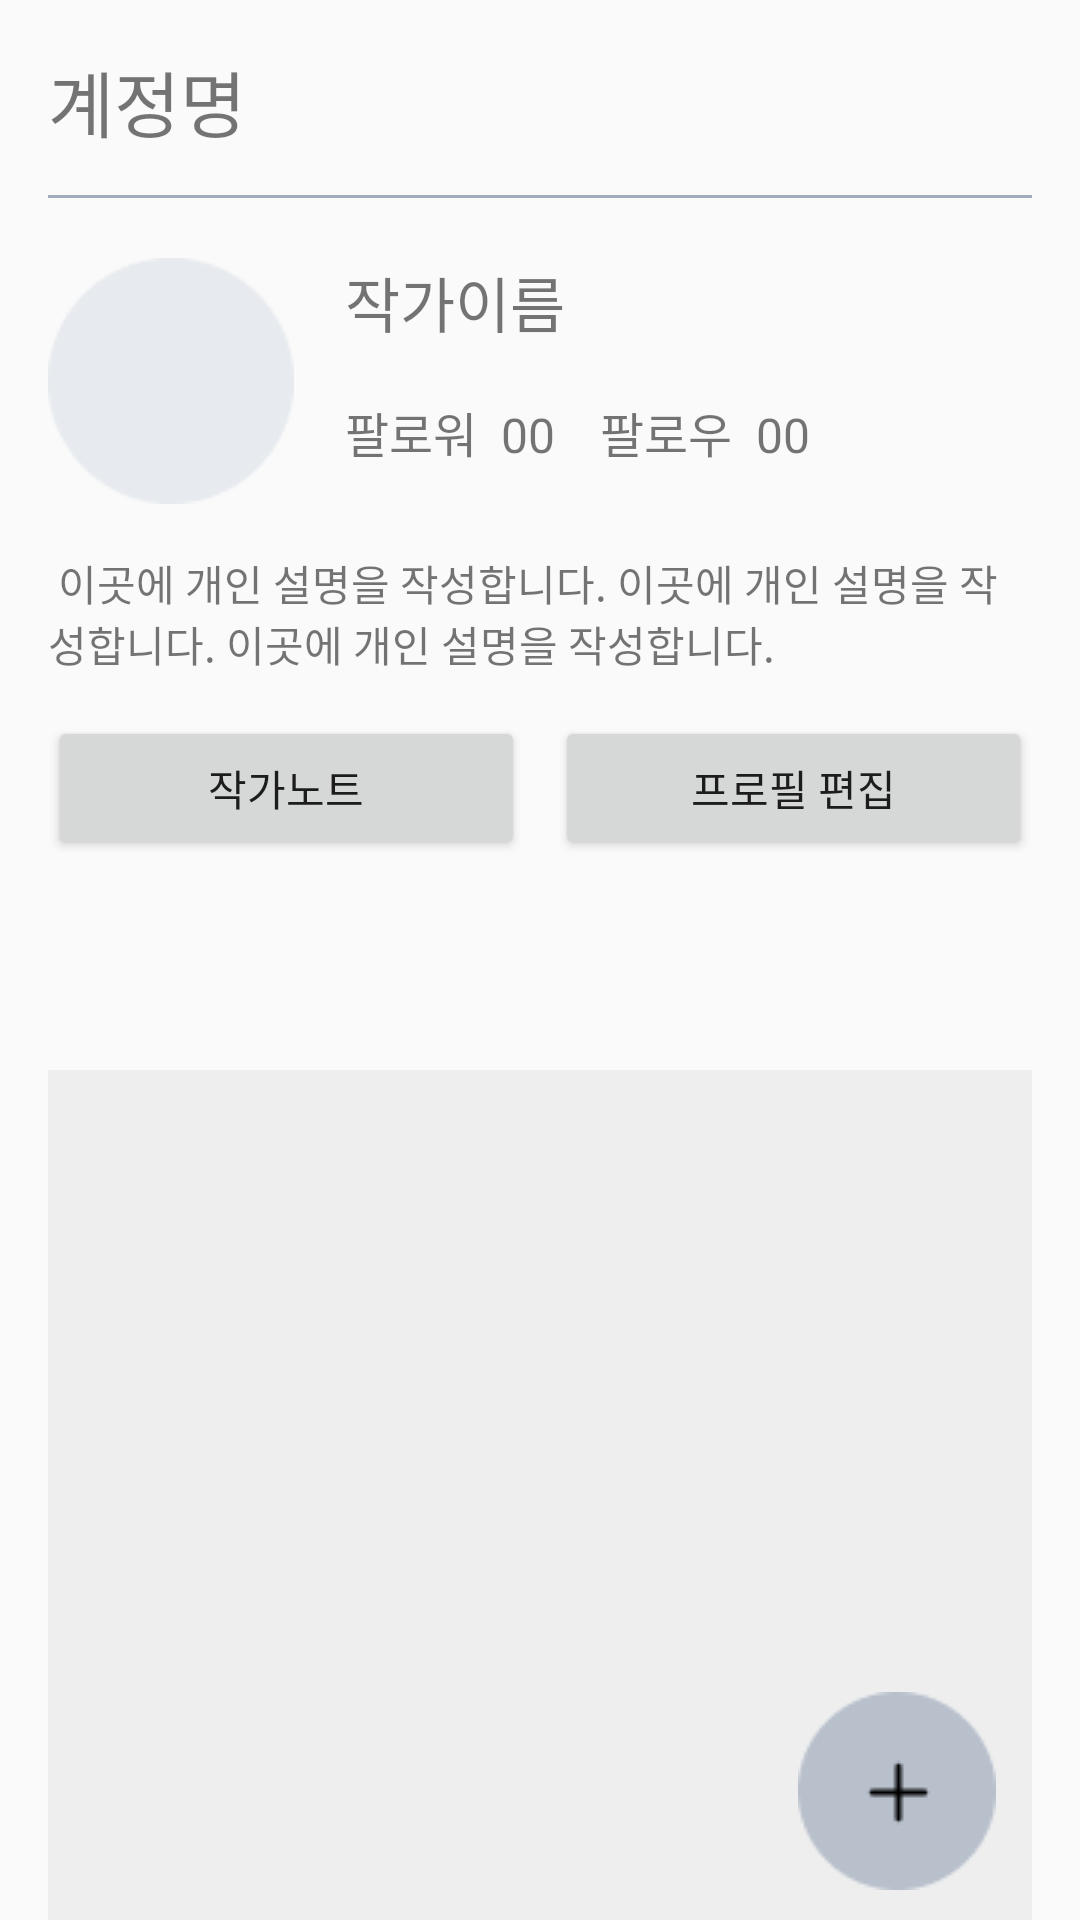

Where to tap for icons on this 1080 x 1920 app screen, as (x=x, y=y):
myprofile add: (x=897, y=1791)
